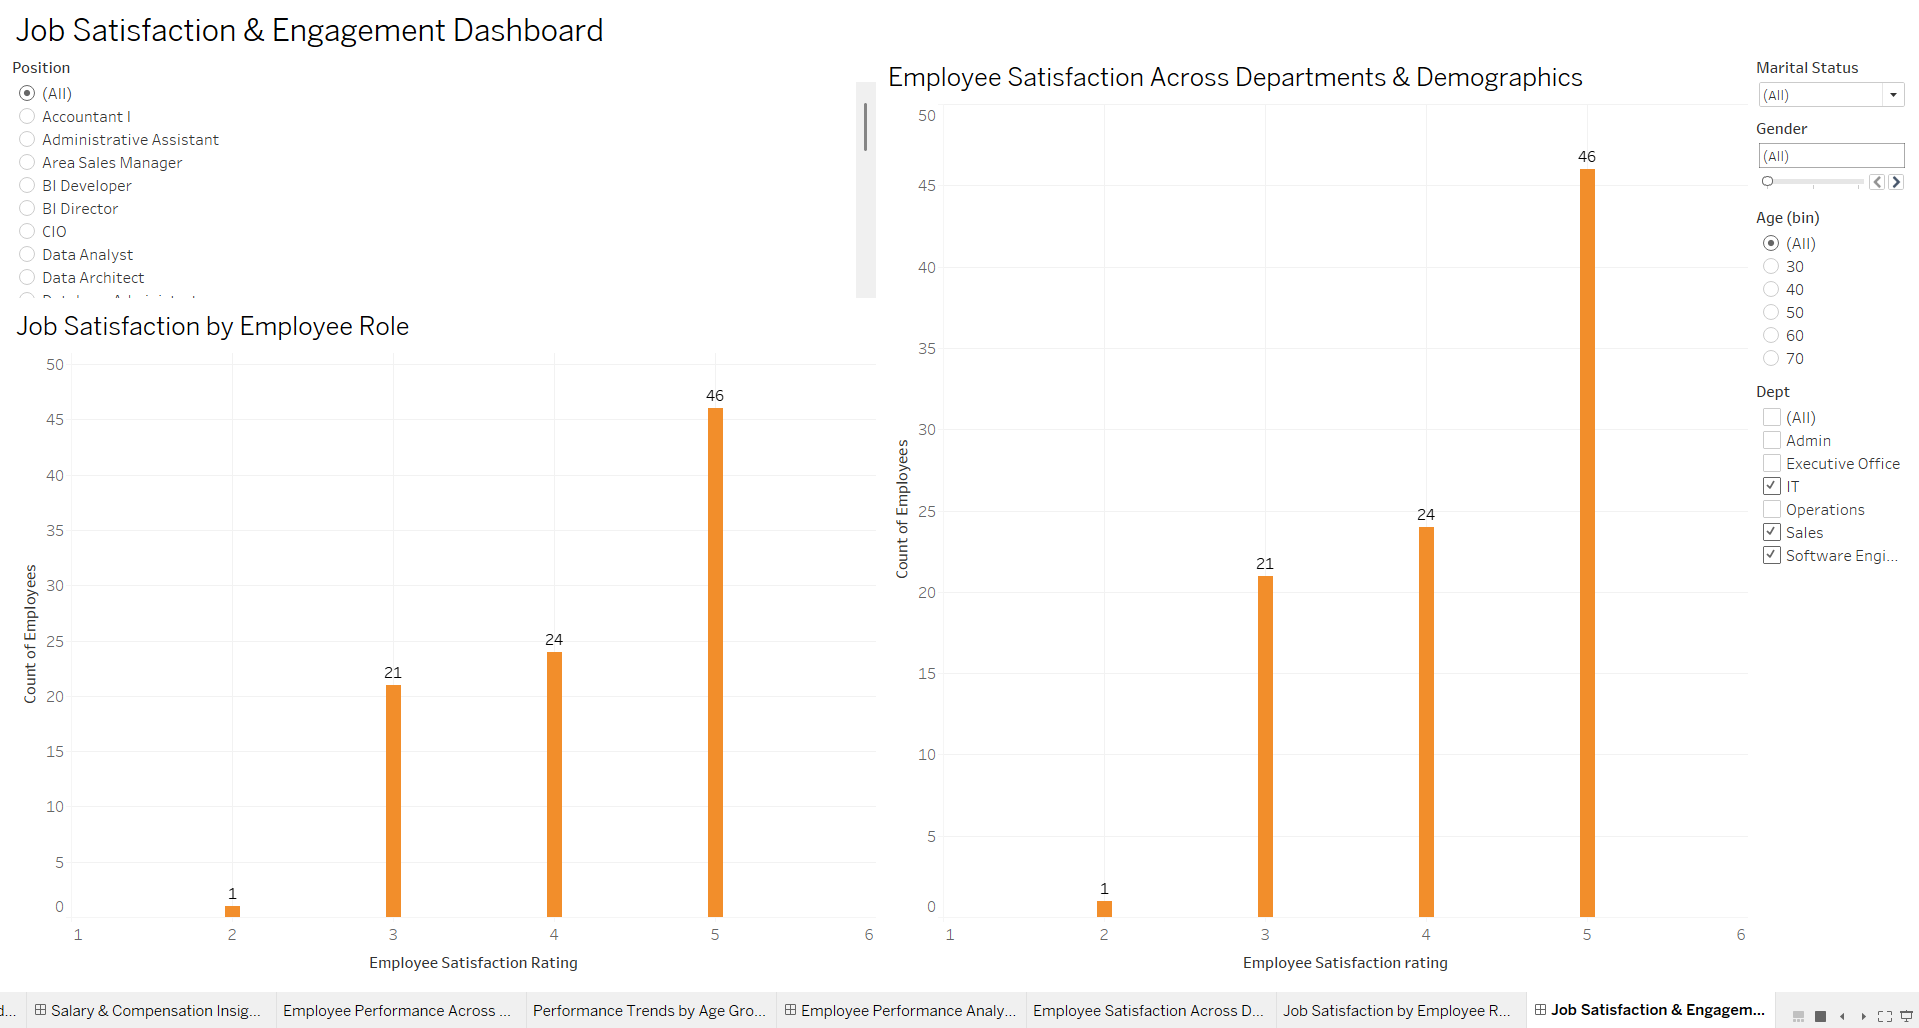

The page's visual inventory and layout, read from the dashboard file:
{"tool":"tableau","page":{"name":"Job Satisfaction & Engagement Dashboard","canvas":[1000,1000],"units":"permille","ordinal":2},"visuals":[{"type":"title","box":[7.7,10.1,984.7,58.1]},{"type":"filter","title":"Job Satisfaction by Employee Role","param":"[federated.0c867ru0xy12iw1aba2a404u1c0z].[none:Position:nk]","box":[7.7,68.3,415.8,246.1]},{"type":"worksheet","title":"Employee Satisfaction Across Departments & Demographics","mark":"Bar","rows":["Employee ID"],"cols":["Emp. Sat."],"box":[423.5,68.3,415.9,921.6]},{"type":"filter","title":"Employee Satisfaction Across Departments & Demographics","param":"[federated.0c867ru0xy12iw1aba2a404u1c0z].[none:Marital Status:nk]","box":[839.4,68.3,153,77.1]},{"type":"filter","title":"Employee Satisfaction Across Departments & Demographics","param":"[federated.0c867ru0xy12iw1aba2a404u1c0z].[none:Gender:nk]","box":[839.4,145.4,153,112.5]},{"type":"filter","title":"Employee Satisfaction Across Departments & Demographics","param":"[federated.0c867ru0xy12iw1aba2a404u1c0z].[none:Age (bin):ok]","box":[839.4,257.9,153,220]},{"type":"worksheet","title":"Job Satisfaction by Employee Role","mark":"Bar","rows":["Employee ID"],"cols":["Emp. Sat."],"box":[7.7,314.4,415.8,675.5]},{"type":"filter","title":"Employee Satisfaction Across Departments & Demographics","param":"[federated.0c867ru0xy12iw1aba2a404u1c0z].[none:Dept:nk]","box":[839.4,477.9,153,249.1]}]}

Visuals, with their boxes on the dashboard's canvas, which has no fixed pixel size, in thousandths of its width and height (x1, y1, x2, y2). These are canvas units, not pixel positions in the 1919x1028 screenshot, which may show the page scaled, cropped or inside an application window:
title: detection(8, 10, 992, 68)
"Job Satisfaction by Employee Role" filter: detection(8, 68, 424, 314)
"Employee Satisfaction Across Departments & Demographics" worksheet (Bar marks): detection(424, 68, 839, 990)
"Employee Satisfaction Across Departments & Demographics" filter: detection(839, 68, 992, 145)
"Employee Satisfaction Across Departments & Demographics" filter: detection(839, 145, 992, 258)
"Employee Satisfaction Across Departments & Demographics" filter: detection(839, 258, 992, 478)
"Job Satisfaction by Employee Role" worksheet (Bar marks): detection(8, 314, 424, 990)
"Employee Satisfaction Across Departments & Demographics" filter: detection(839, 478, 992, 727)
